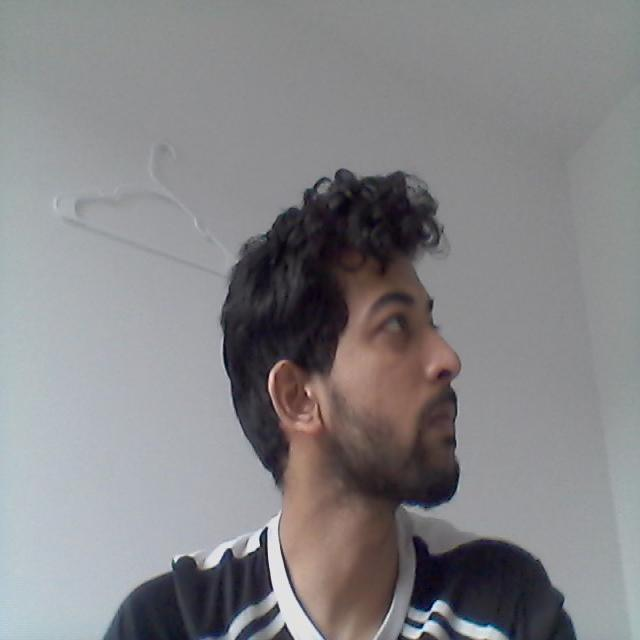nocap: (198, 160, 498, 477), (274, 621, 639, 639)
